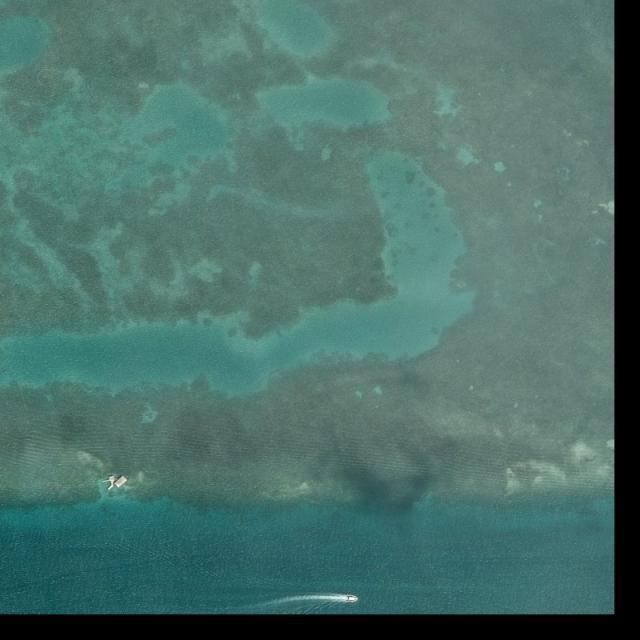ship: (346, 596, 359, 602)
